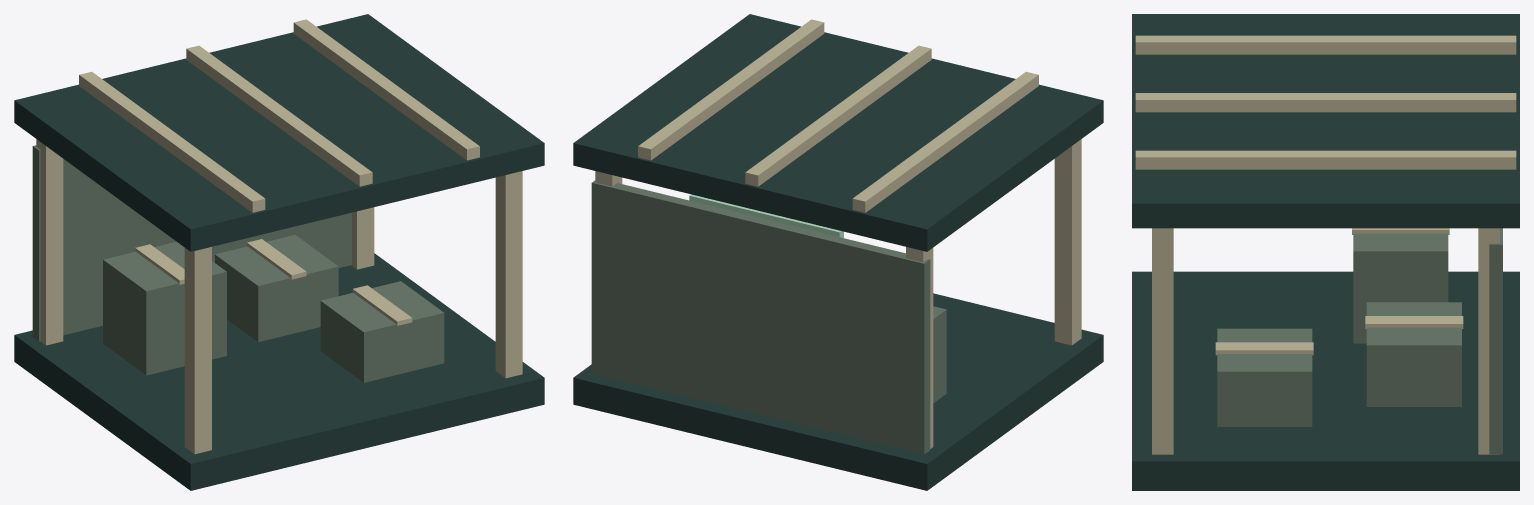
The model's file is shed-intact.glb.
3 views of the same model, side by side, from view 1: azimuth 30°, elevation 25°; view 2: azimuth 150°, elevation 25°; view 3: azimuth 270°, elevation 25° (orthographic). The views are drawn at different scales.
Visible parts, largest first — view 1: shed-intact; view 2: shed-intact; view 3: shed-intact.
Boxes of the visible parts, bbox=[...] form: shed-intact: bbox=[14, 14, 544, 490]; shed-intact: bbox=[573, 14, 1103, 490]; shed-intact: bbox=[1132, 14, 1519, 490].
Size of the model in its own units: 3.3 by 2.43 by 2.85.
